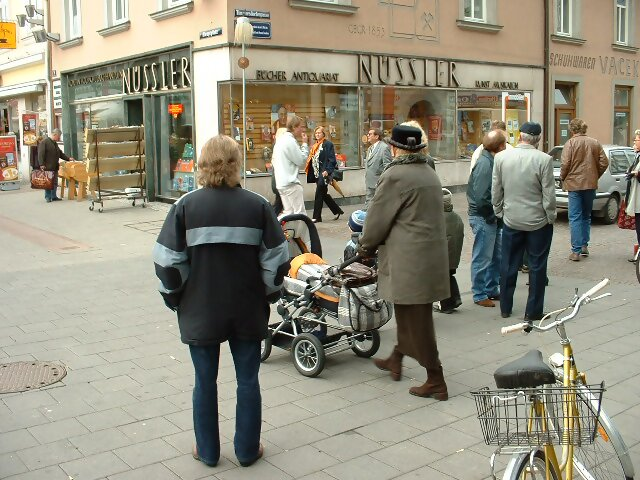person: (156, 132, 286, 467), (364, 121, 459, 403), (494, 119, 564, 327), (561, 109, 603, 265), (268, 114, 315, 225), (33, 123, 67, 205)
